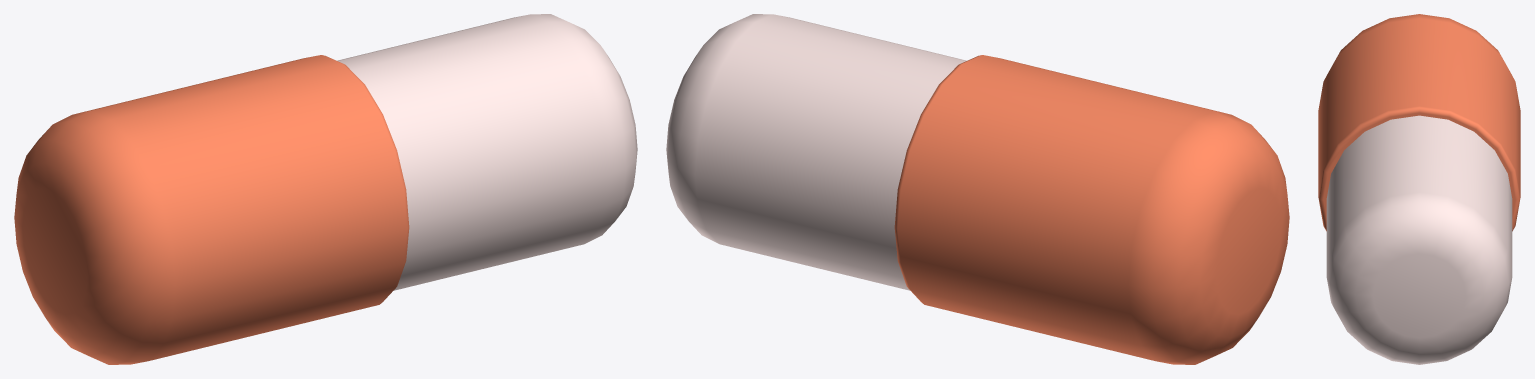
File: Public_3_Pill_8.glb
3 views of the same model, side by side, from view 1: azimuth 30°, elevation 25°; view 2: azimuth 150°, elevation 25°; view 3: azimuth 270°, elevation 25° (orthographic). The views are drawn at different scales.
Visible parts, largest first — view 1: Public_3_Pill_8; view 2: Public_3_Pill_8; view 3: Public_3_Pill_8.
Boxes of the visible parts, x1,y1,x2,y2 form: Public_3_Pill_8: (14, 14, 637, 364); Public_3_Pill_8: (666, 14, 1289, 364); Public_3_Pill_8: (1318, 14, 1520, 364).
Bounding box in the file's own units: 1.39 × 0.5749 × 0.575.
Materials: 1 (1 with a texture image).
